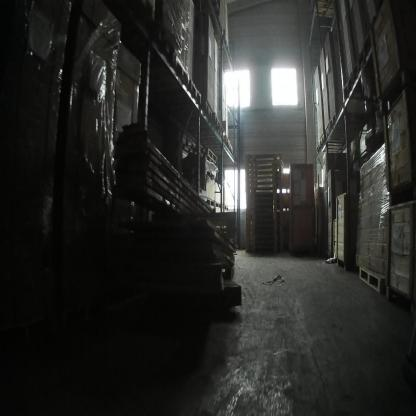pallet: (186, 138, 216, 163), (156, 29, 176, 65), (359, 266, 385, 293), (182, 143, 214, 163), (175, 56, 190, 87), (312, 0, 336, 19), (351, 48, 364, 82), (199, 136, 231, 149), (342, 72, 355, 103), (318, 133, 346, 147), (199, 113, 221, 130), (189, 80, 202, 106), (317, 143, 344, 153), (199, 129, 224, 139), (362, 31, 372, 56), (211, 144, 233, 155), (202, 100, 213, 121), (222, 265, 235, 280), (203, 197, 215, 207), (325, 122, 332, 138), (329, 112, 336, 127), (215, 201, 221, 208), (224, 205, 229, 211)
